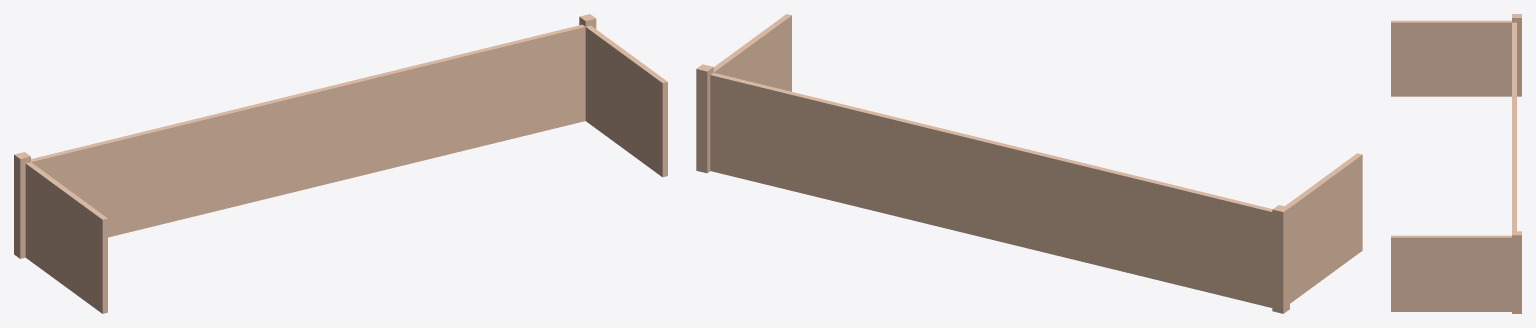
The model's file is fence_wide.glb.
3 views of the same model, side by side, from view 1: azimuth 30°, elevation 25°; view 2: azimuth 150°, elevation 25°; view 3: azimuth 270°, elevation 25° (orthographic). The views are drawn at different scales.
Visible parts, largest first — view 1: fence_wide; view 2: fence_wide; view 3: fence_wide.
Boxes of the visible parts, x1,y1,x2,y2 form: fence_wide: [14, 14, 667, 313]; fence_wide: [696, 14, 1362, 313]; fence_wide: [1391, 14, 1521, 313].
Bounding box in the file's own units: 1.6 × 0.265 × 0.4.
